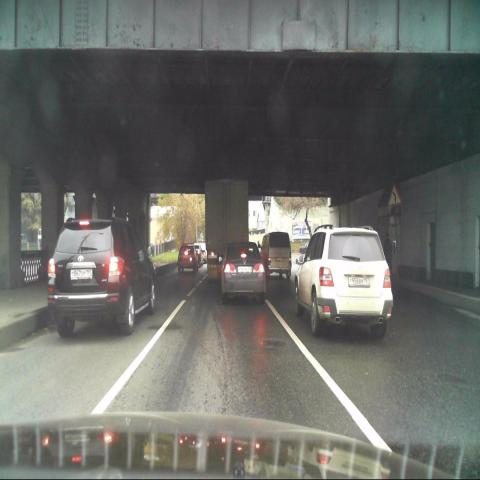1_11_1: (388, 183, 402, 206)
